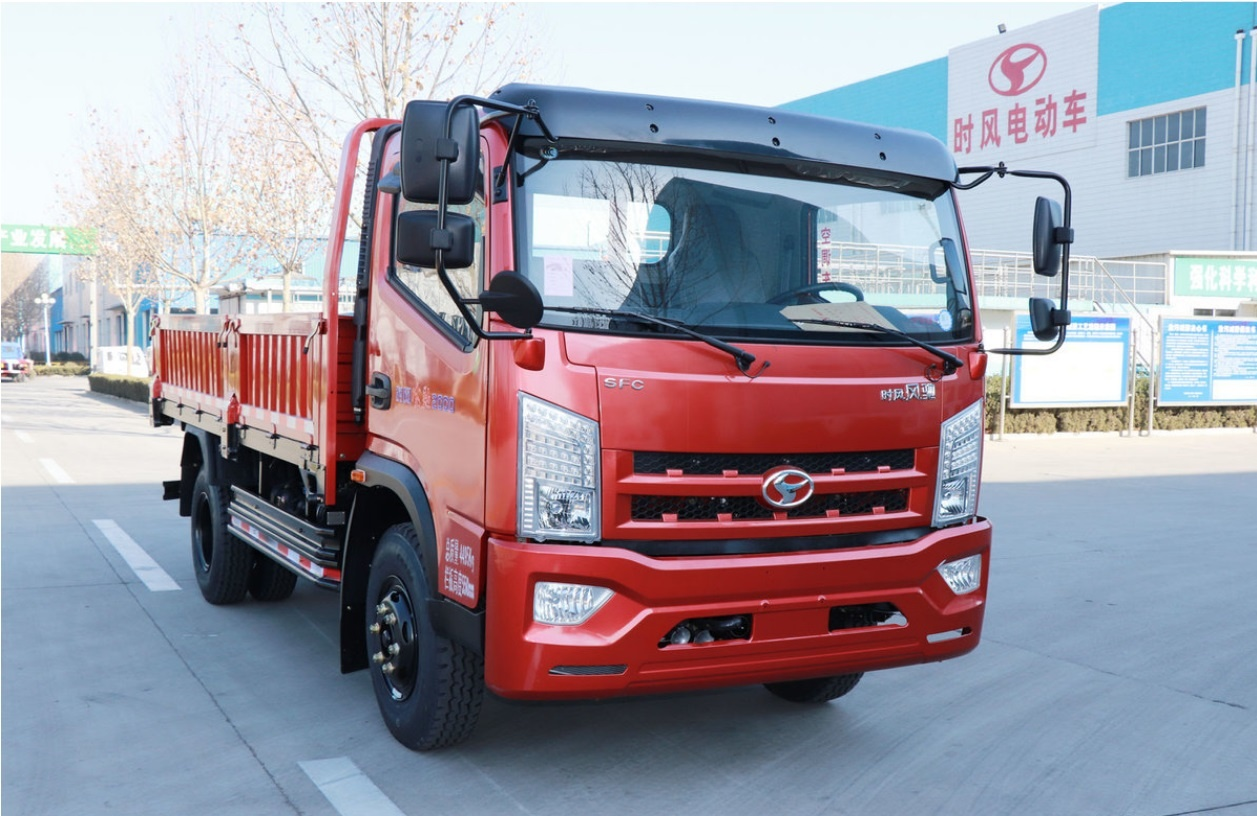heavy truck: (135, 92, 1071, 765)
